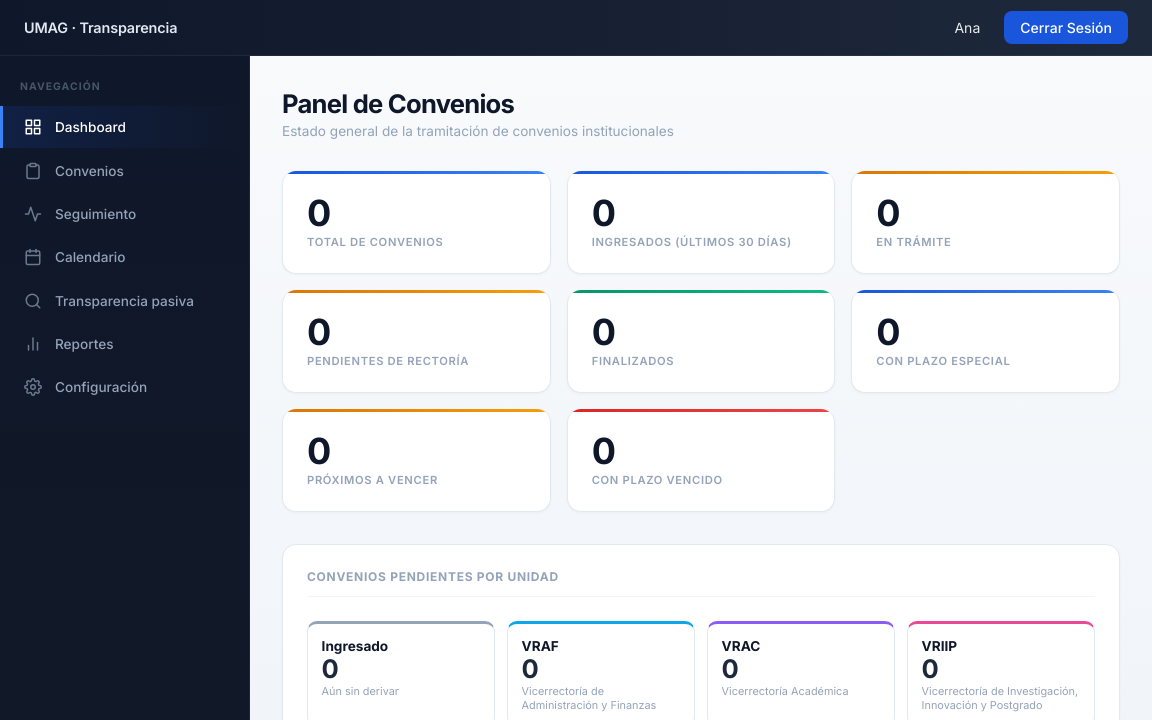
Test case: plazos fuera de la tabla de feriados › marca en el listado la solicitud cuyo plazo no es de fiar
Click the text "Transparencia pasiva".
click(109, 301)  # box [24, 292, 194, 310]
(page scrolled)
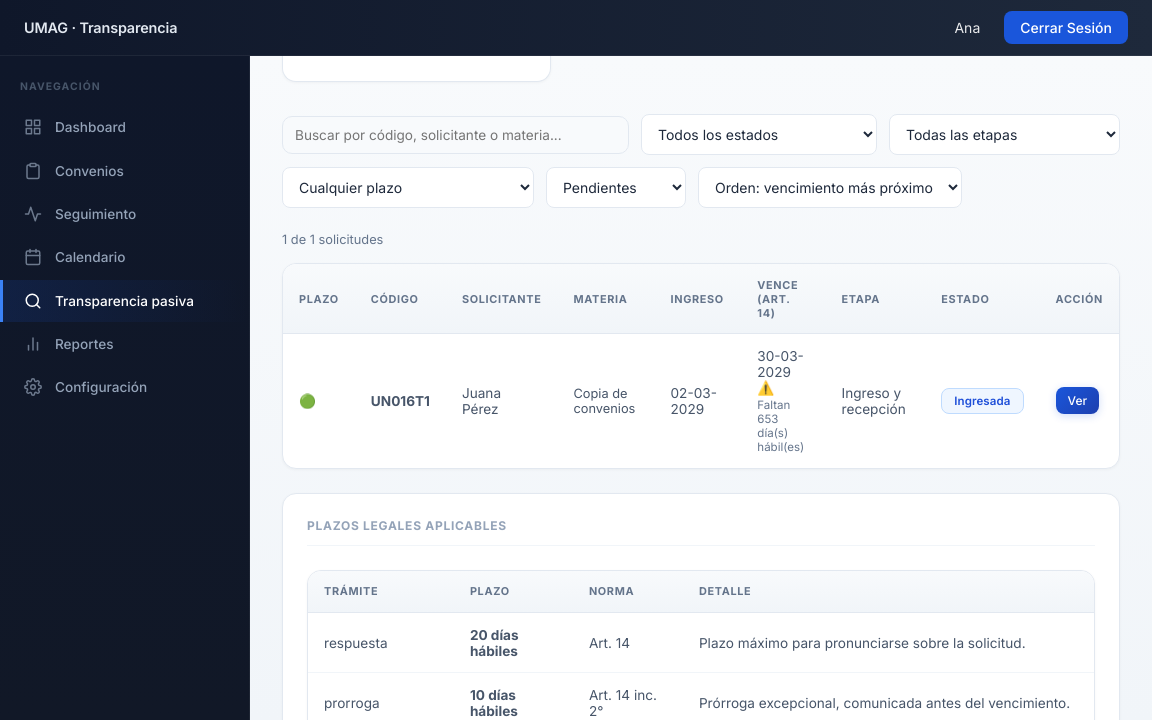
Now the text titled "tabla de feriados está incompleta" is shown, box [757, 380, 774, 396]
